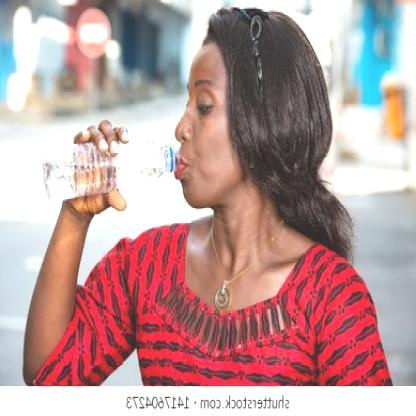bottle: (37, 132, 181, 212)
